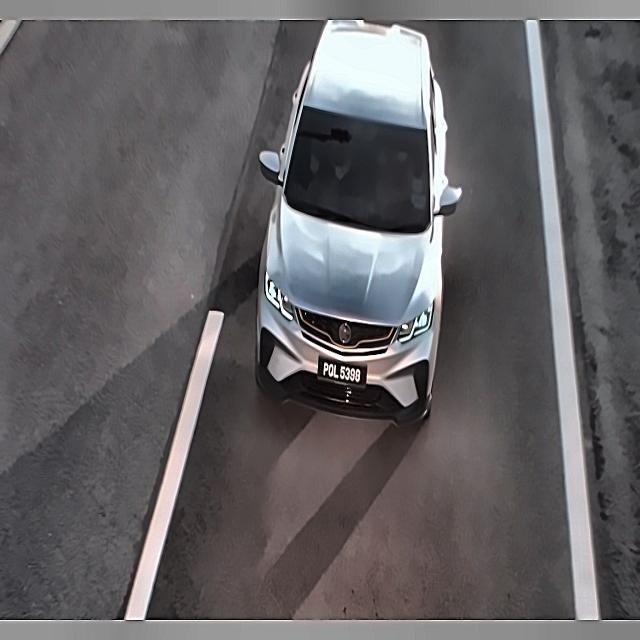car: (312, 348, 374, 392)
